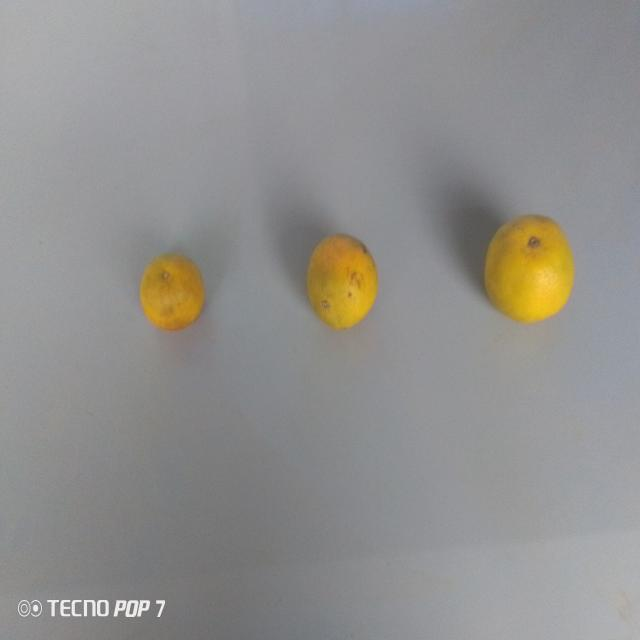Ripe orange: (470, 208, 583, 334), (297, 226, 384, 336), (136, 240, 210, 336)
